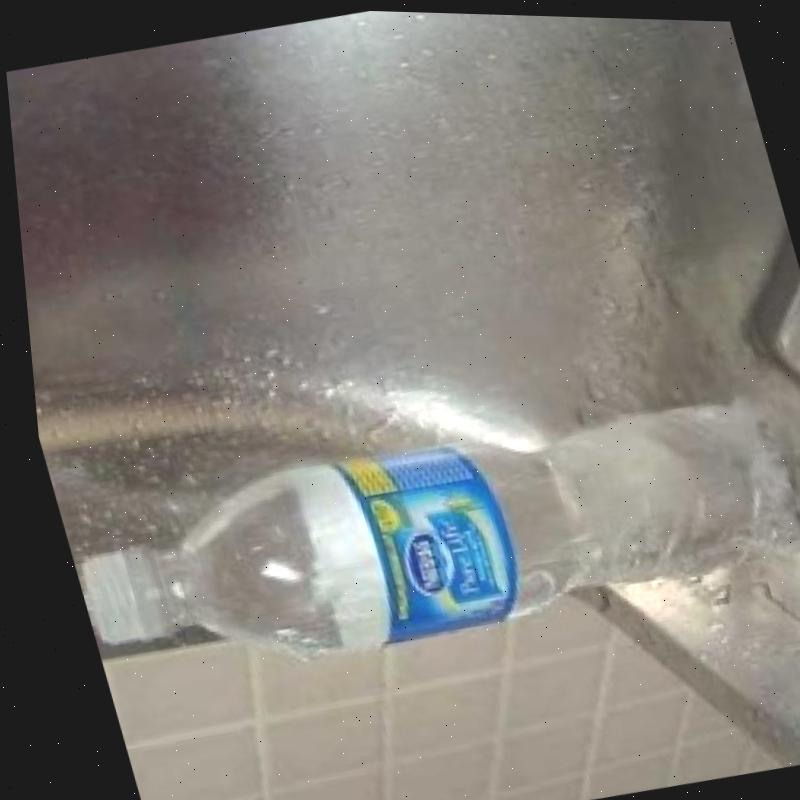botella: (42, 365, 800, 716)
